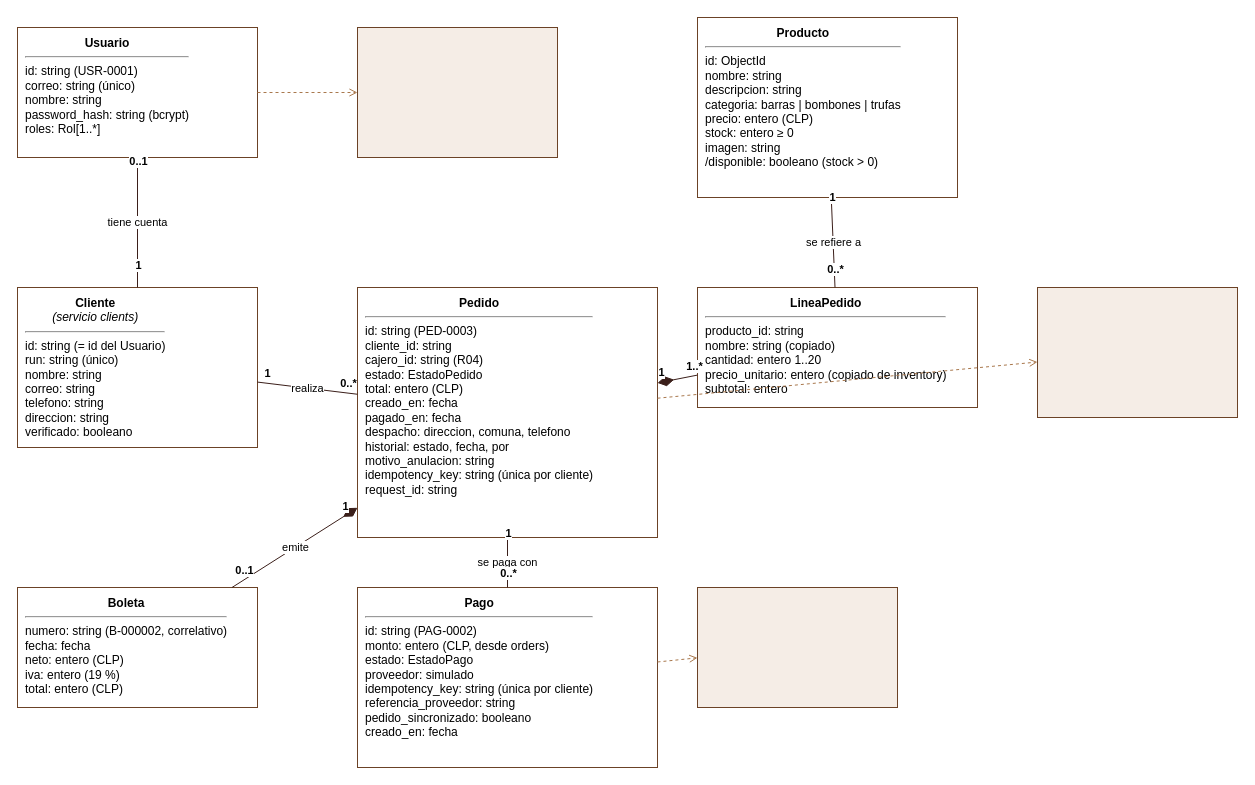
Image size: 1255x785. Some labels were removed from this diagram. The shapes that lost their labels are listed below. From the top down, each one's centre as x and y in pixels, then its label:
At point (457, 92): "«enumeración» Rol CLIENTE ADMIN DUENO CAJERO DESPACHO".
At point (1137, 352): "«enumeración» EstadoPedido PENDIENTE_PAGO PAGADO EN_DESPACHO ENTREGADO ANULADO".
At point (797, 647): "«enumeración» EstadoPago PENDIENTE APROBADO RECHAZADO REVERTIDO".
